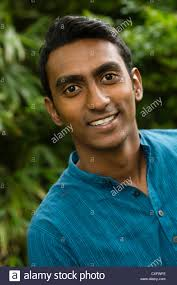Indian_Male: (39, 24, 148, 157)
